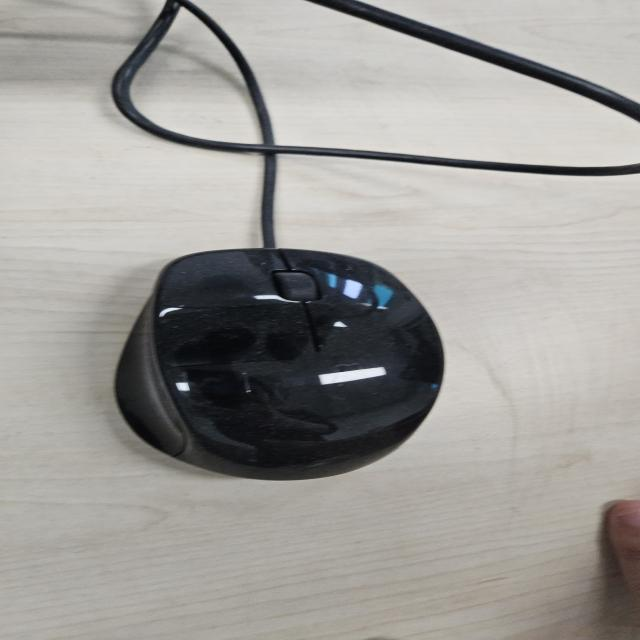Mouse: (111, 246, 448, 481)
